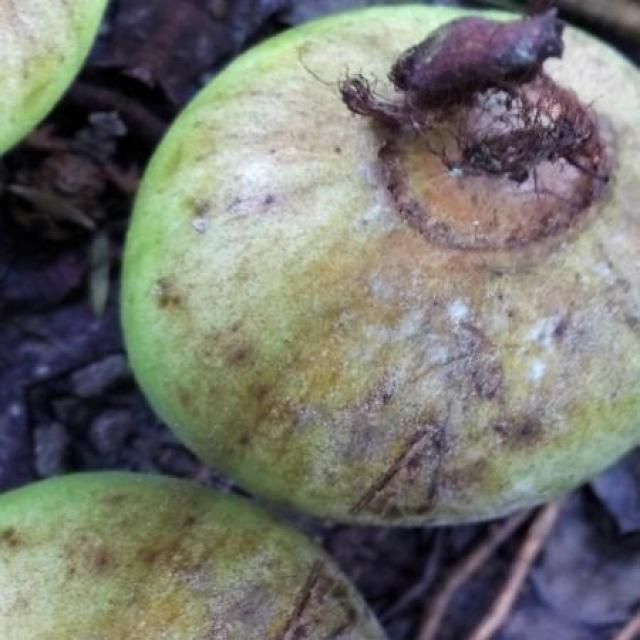Styler and Root: (122, 6, 640, 523), (0, 472, 385, 640)
